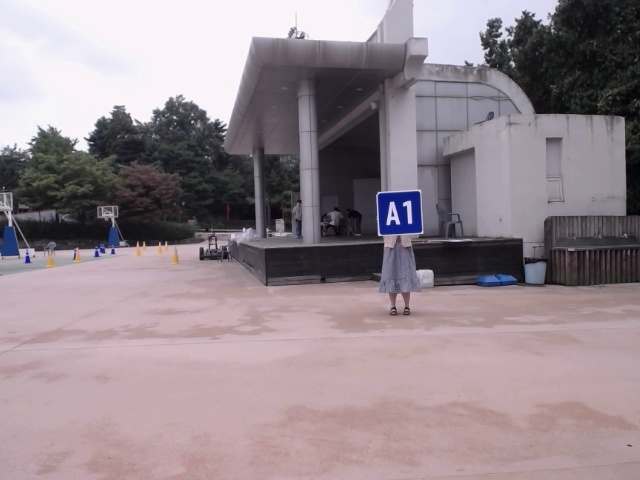delivery_a1: (376, 190, 424, 236)
